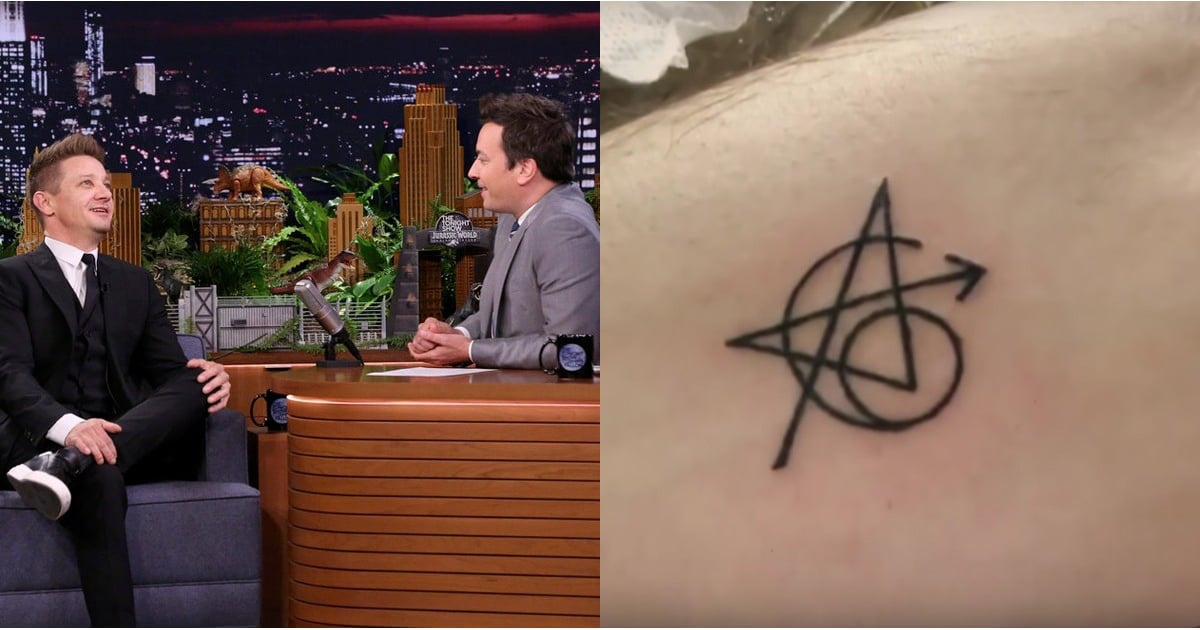bad: (63, 155, 137, 229)
